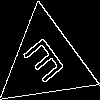E: (21, 36, 73, 93)
